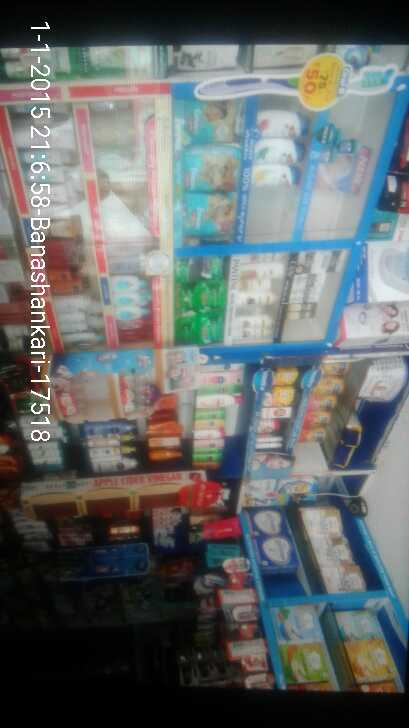beauty: (255, 109, 306, 140), (251, 140, 306, 165), (250, 163, 300, 190), (229, 315, 281, 339), (233, 291, 275, 310), (315, 251, 343, 270), (288, 310, 317, 320), (286, 302, 317, 311)
pharmacy: (181, 143, 240, 192), (176, 99, 239, 143), (181, 192, 237, 236), (172, 253, 226, 285), (175, 309, 222, 344), (173, 286, 225, 310), (336, 136, 358, 159)
